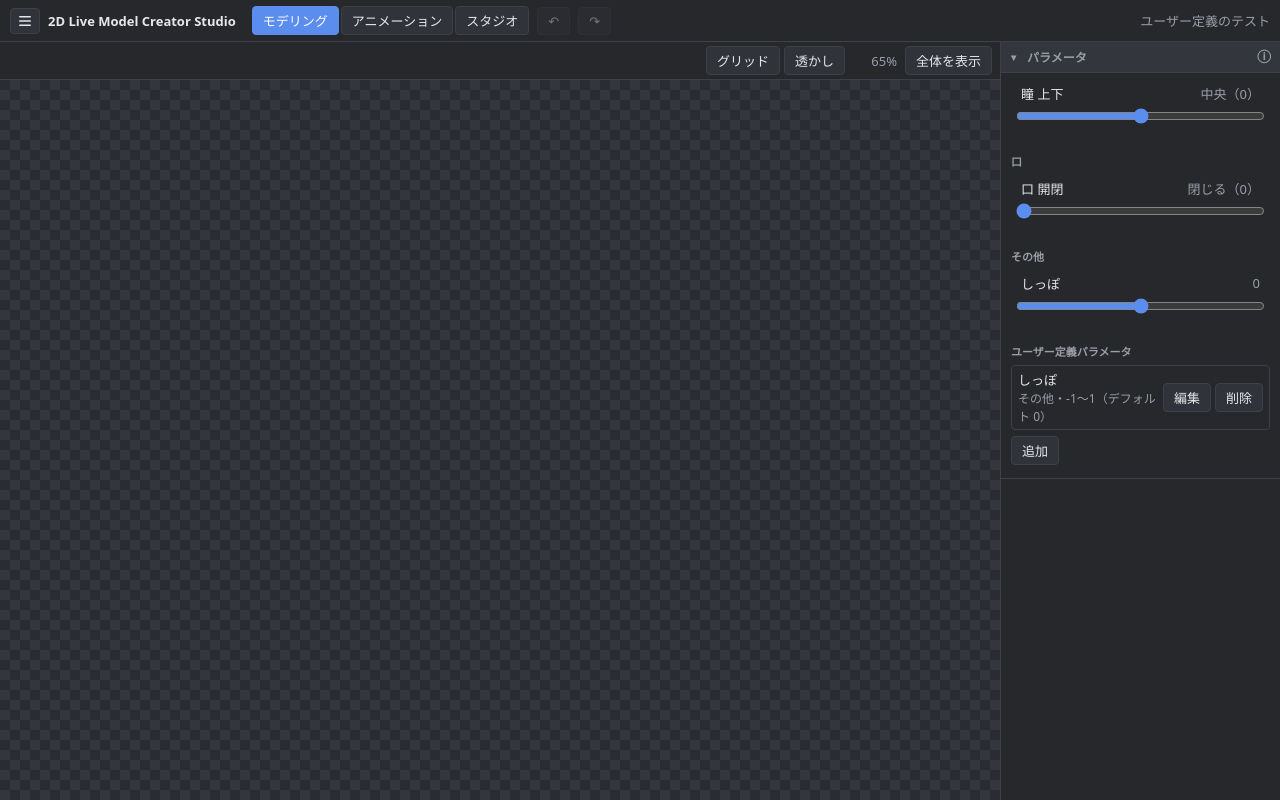
ユーザー定義パラメータのセクション › 削除は使っているものを示して確かめ、断れば何もしない
The image size is (1280, 800).
(page scrolled)
Step 1. Click the button with aria-label "しっぽ を削除" → (1239, 398), box [1215,383,1263,412]
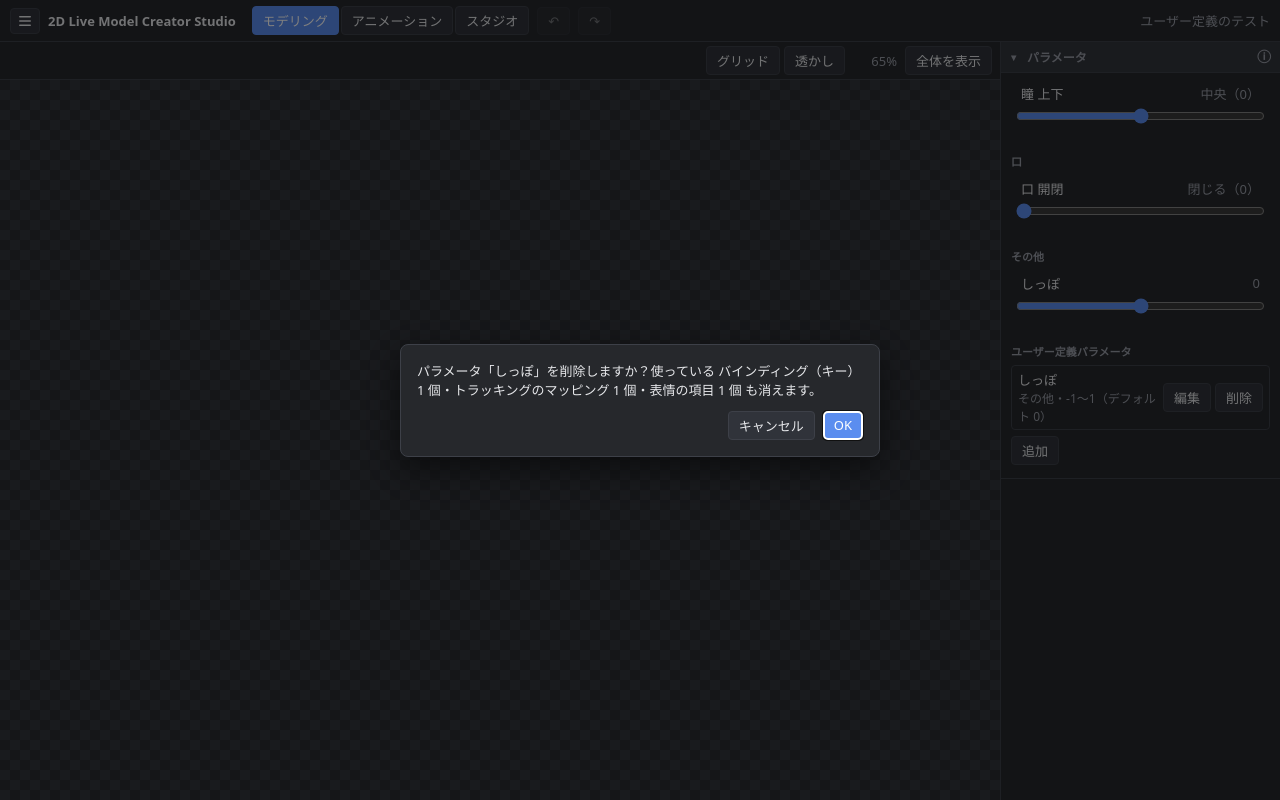
Expected: the text "バインディング（キー） 1 個・トラッキングのマッピング 1 個・表情の項目 1 個" is shown, [417,362,864,398]
Step 2. Click the button "キャンセル" → (771, 425), box [728,410,815,440]
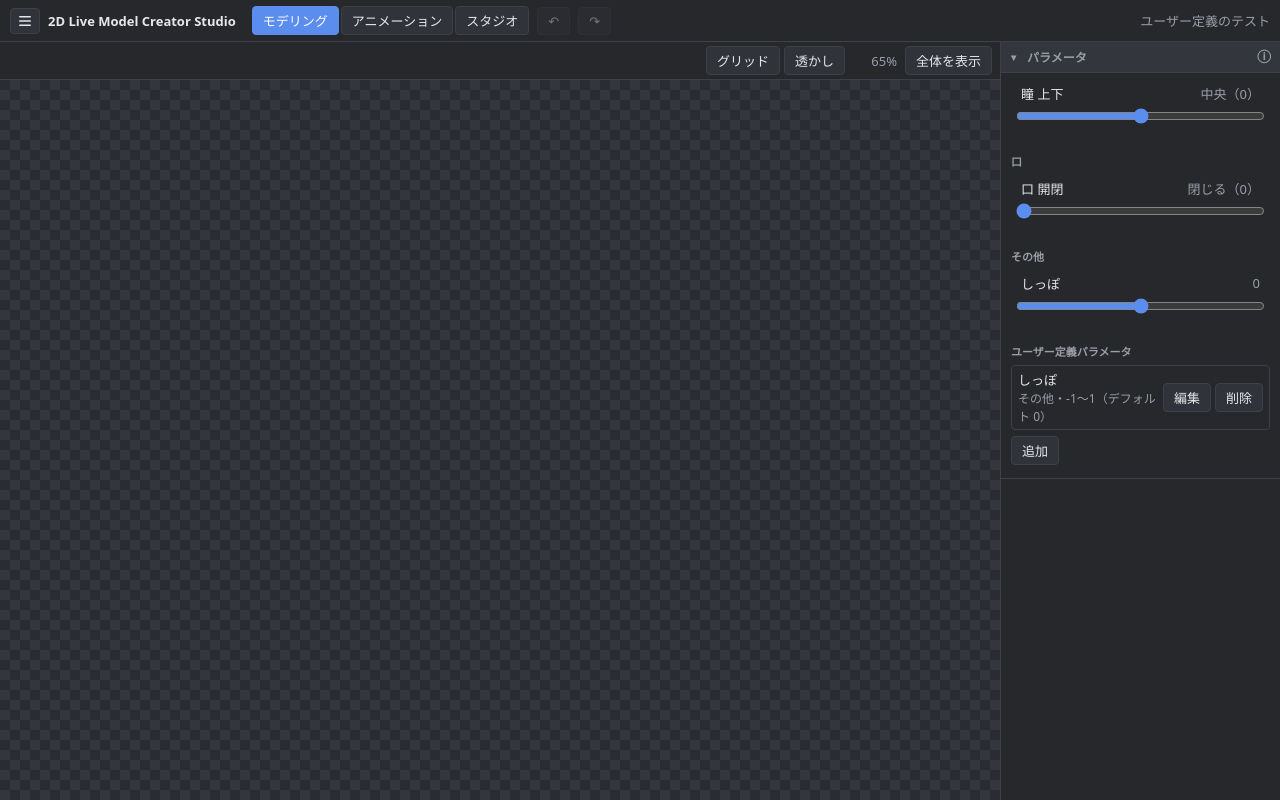
Expected: the dialog is gone
